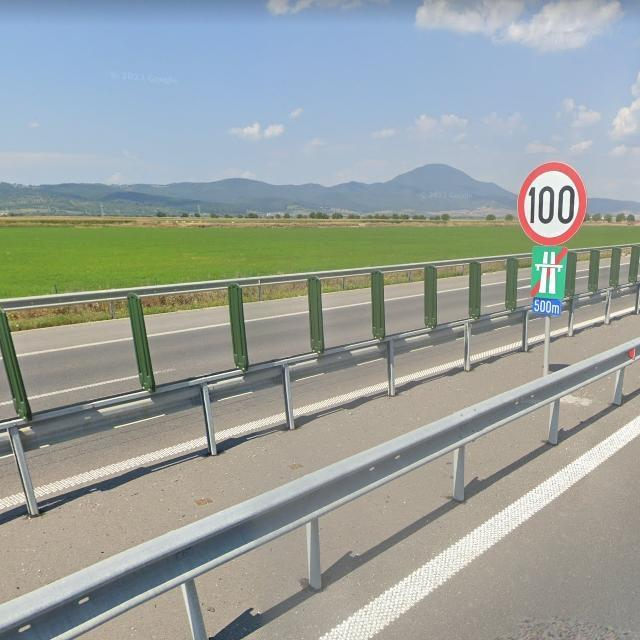forb_speed_over_100: (515, 158, 589, 246)
